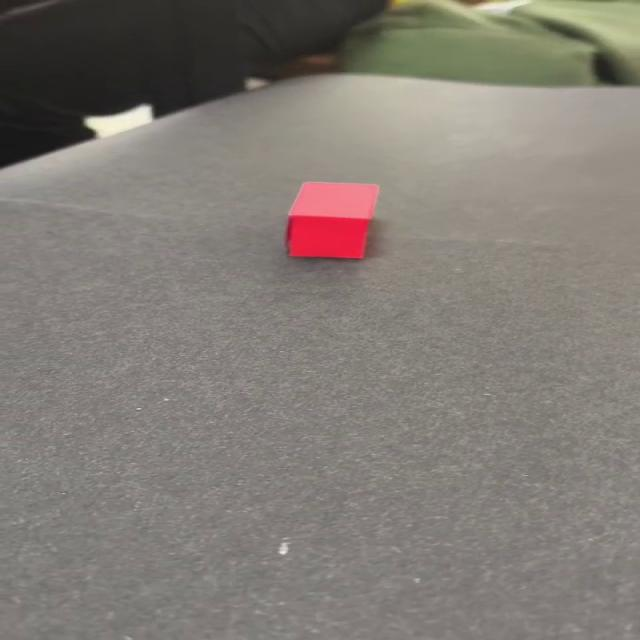red block: (284, 181, 379, 259)
